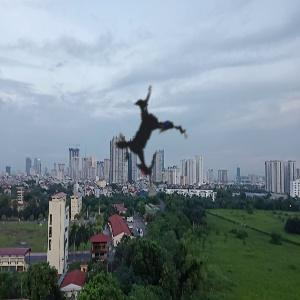drone: (67, 59, 230, 222)
